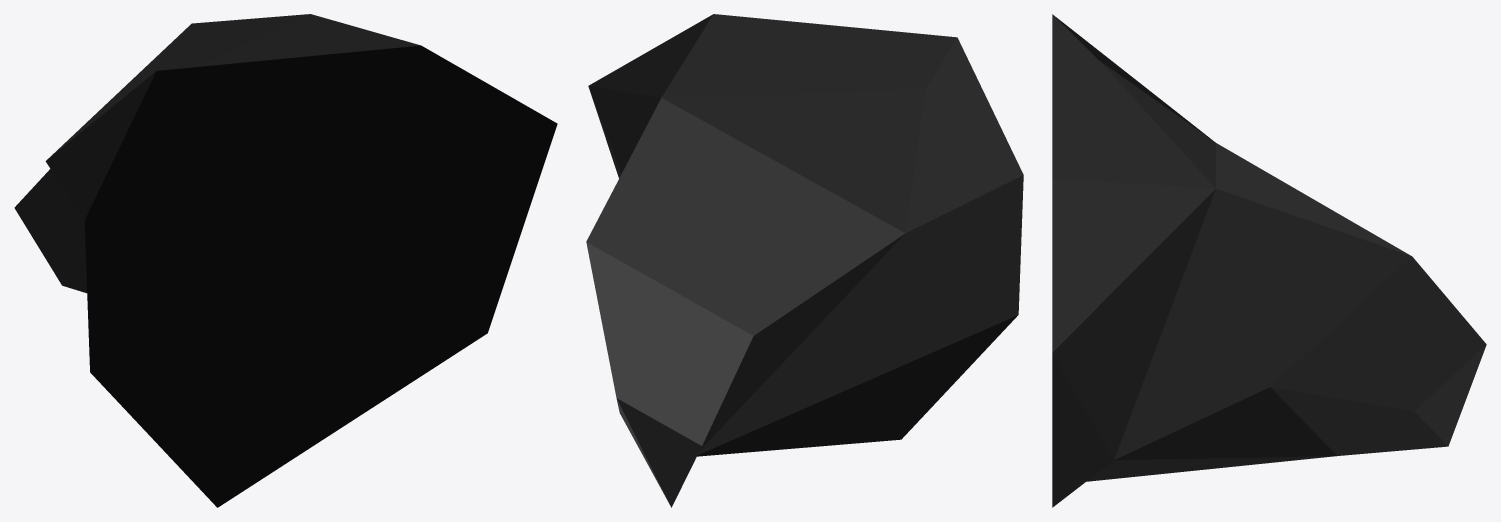
The model's file is rock_3.fbx.
3 renders of one model, left to right at view 1: azimuth 30°, elevation 25°; view 2: azimuth 150°, elevation 25°; view 3: azimuth 270°, elevation 25°, orthographic. The views are drawn at different scales.
Visible parts, largest first — view 1: rock_3; view 2: rock_3; view 3: rock_3.
Part boxes in pixels (bbox=[...]): rock_3: bbox=[14, 14, 557, 507]; rock_3: bbox=[586, 14, 1023, 507]; rock_3: bbox=[1052, 14, 1486, 507].
Bounding box in the file's own units: 39.03 × 35.63 × 31.73.
